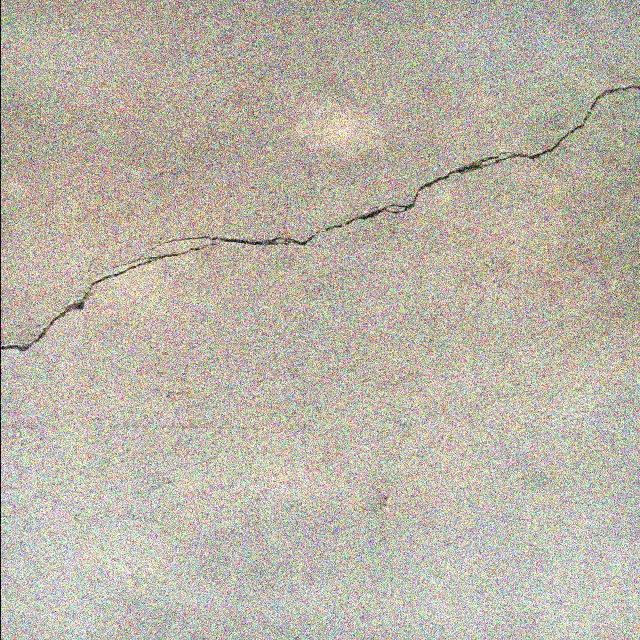SurfaceCrack: (1, 55, 640, 399)
